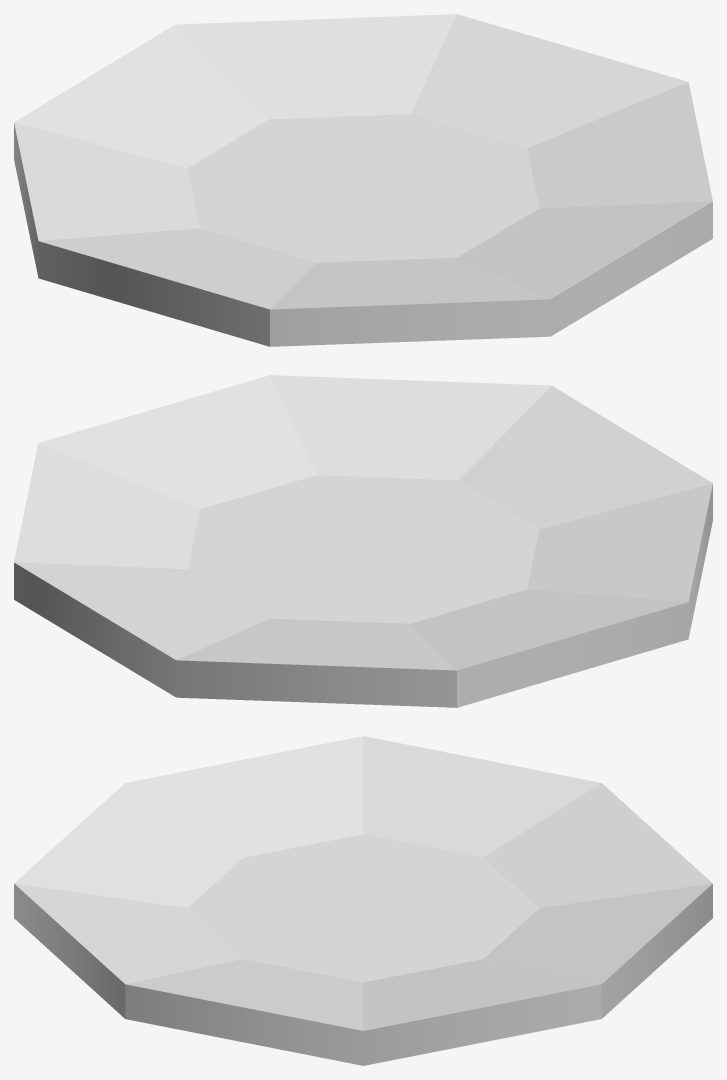
Rendered from Itr_Obj_dish2_01.FBX.
The picture shows the model from 3 angles, top to bottom: view 1: azimuth 30°, elevation 25°; view 2: azimuth 150°, elevation 25°; view 3: azimuth 270°, elevation 25°; orthographic projection. The views are drawn at different scales.
Parts seen in each view (by area): view 1: Itr_Obj_dish2_01; view 2: Itr_Obj_dish2_01; view 3: Itr_Obj_dish2_01.
Boxes of the visible parts, x1,y1,x2,y2 form: Itr_Obj_dish2_01: (14,14,712,346); Itr_Obj_dish2_01: (14,375,712,707); Itr_Obj_dish2_01: (14,736,712,1065).
Bounding box in the file's own units: 9.99 × 0.9449 × 9.99.
